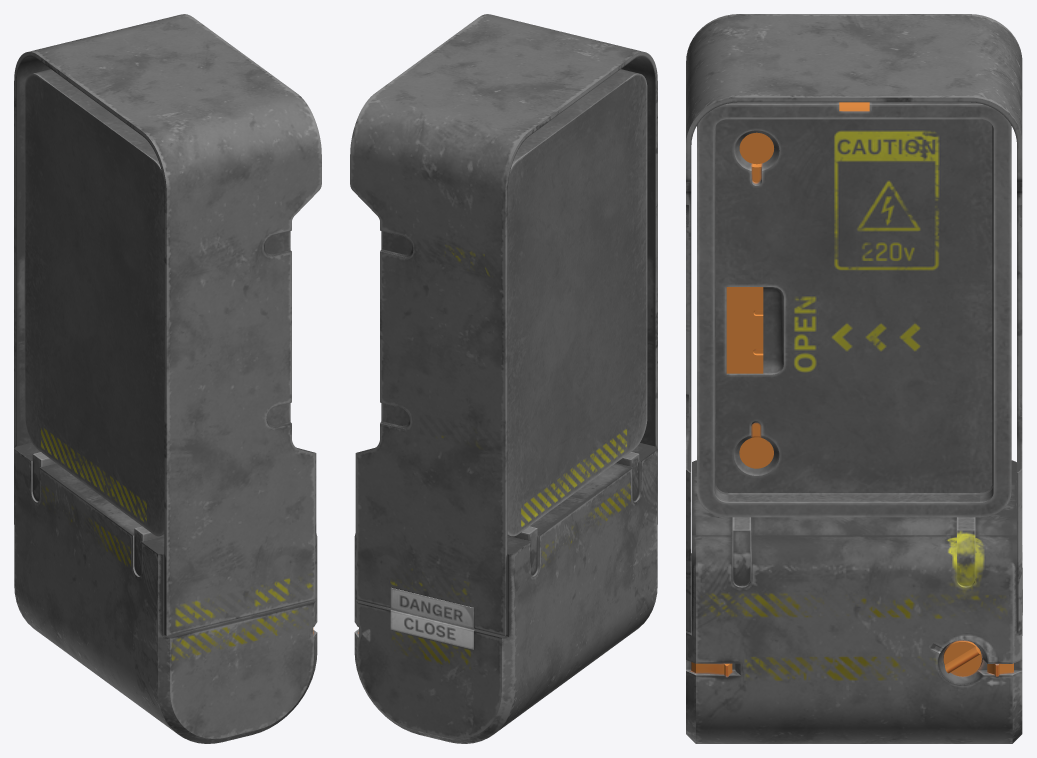
Rendered from bravo_control_panel.glb.
The picture shows the model from 3 angles, left to right: view 1: azimuth 30°, elevation 25°; view 2: azimuth 150°, elevation 25°; view 3: azimuth 270°, elevation 25°; orthographic projection. The views are drawn at different scales.
Parts seen in each view (by area): view 1: DistributionBoard; view 2: DistributionBoard; view 3: DistributionBoard.
Boxes of the visible parts, bbox=[...] form: DistributionBoard: bbox=[14, 14, 321, 743]; DistributionBoard: bbox=[350, 14, 657, 743]; DistributionBoard: bbox=[686, 14, 1022, 743].
Bounding box in the file's own units: 0.5039 × 1.8 × 0.8164.
1 material, 1 textured.
